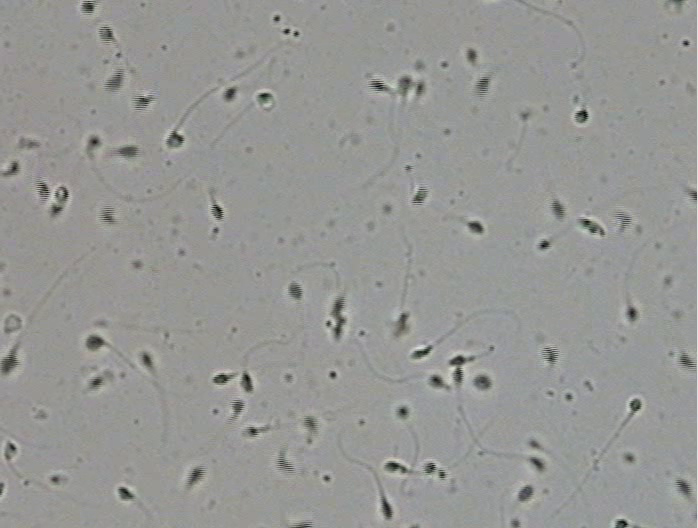S: (330, 295, 347, 339), (576, 218, 606, 237), (186, 465, 207, 486), (1, 352, 20, 374), (103, 72, 122, 92), (394, 312, 409, 337), (131, 94, 152, 111), (276, 454, 294, 473), (678, 353, 697, 371), (35, 181, 51, 202), (541, 347, 559, 365), (166, 131, 185, 148), (240, 371, 254, 394), (380, 498, 394, 521), (85, 335, 105, 351), (475, 76, 489, 98), (98, 206, 115, 224), (674, 478, 691, 496), (412, 186, 428, 205), (117, 486, 137, 501), (550, 200, 565, 220), (397, 76, 412, 96), (616, 210, 631, 230), (302, 415, 319, 432), (53, 186, 70, 203), (98, 26, 114, 44), (518, 484, 534, 502), (473, 374, 492, 389), (287, 282, 302, 300), (230, 398, 245, 416), (367, 79, 387, 92), (210, 204, 225, 221), (87, 376, 104, 391), (411, 347, 432, 359), (79, 1, 95, 16), (529, 456, 545, 471), (4, 442, 17, 460), (119, 146, 138, 158), (574, 109, 589, 124), (429, 375, 445, 389), (467, 221, 484, 234), (212, 373, 230, 385), (241, 426, 259, 438), (223, 87, 237, 102), (452, 367, 464, 384), (449, 355, 467, 366), (48, 204, 63, 217), (140, 353, 153, 368), (625, 307, 638, 322), (290, 520, 313, 528), (87, 136, 101, 149), (7, 162, 20, 176), (629, 398, 642, 412), (257, 93, 272, 105), (384, 461, 399, 473), (421, 462, 437, 473), (537, 239, 551, 251), (465, 49, 477, 63), (396, 406, 409, 418), (686, 188, 697, 202), (415, 81, 424, 98), (613, 519, 629, 528), (527, 439, 541, 449), (1, 482, 5, 497)
